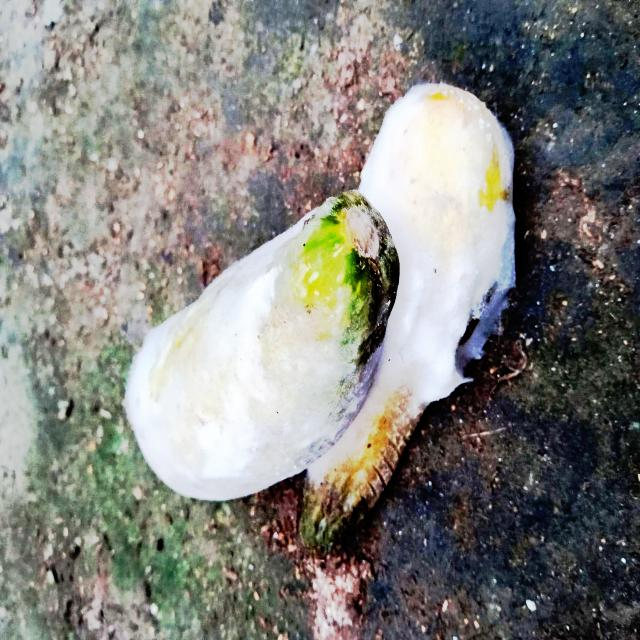Pythium-Fruit-Rot: (308, 78, 517, 489), (125, 203, 387, 501)
